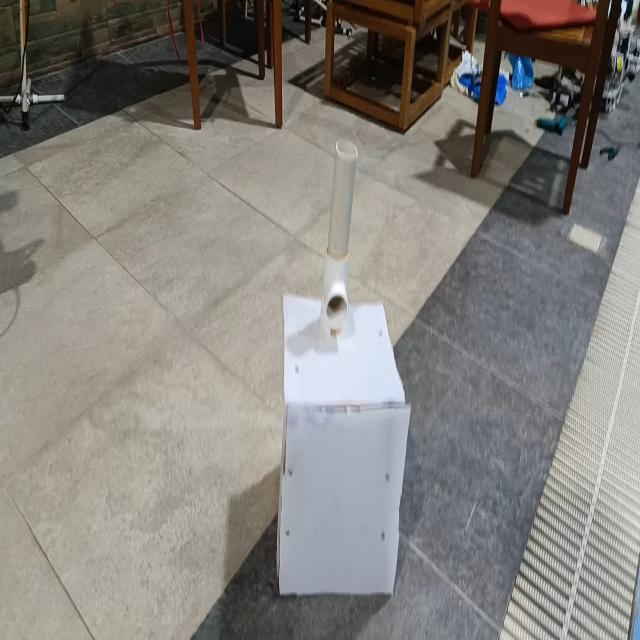Cube: (276, 292, 411, 598)
